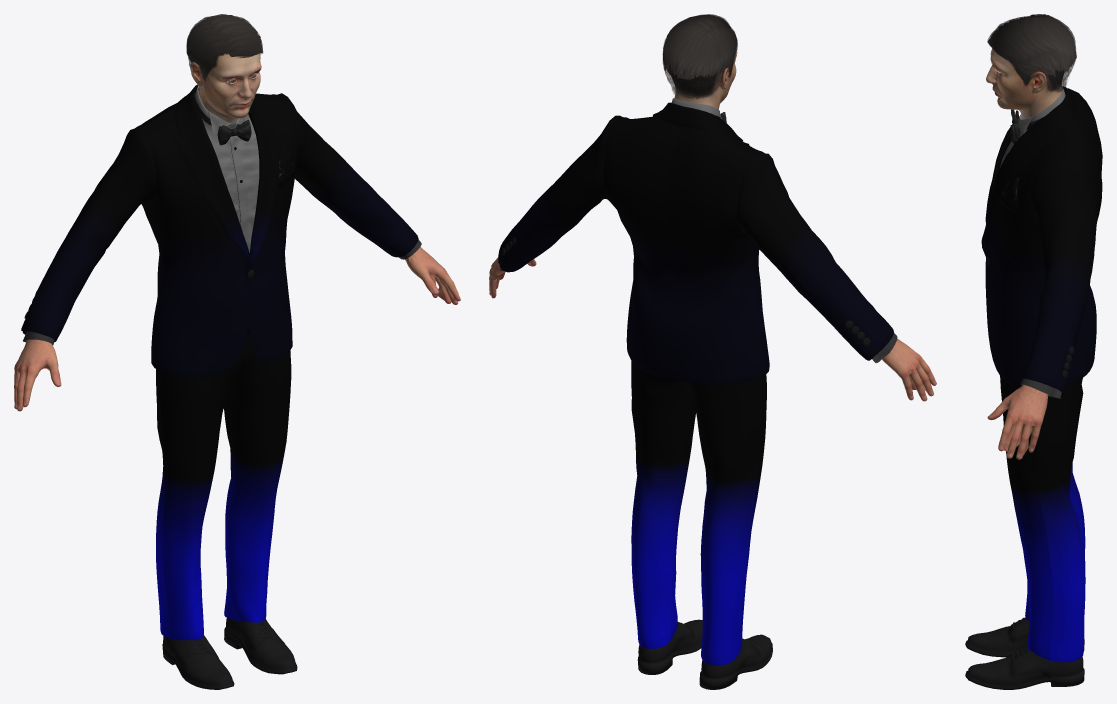
The picture shows the model from 3 angles, left to right: view 1: azimuth 30°, elevation 25°; view 2: azimuth 150°, elevation 25°; view 3: azimuth 270°, elevation 25°; orthographic projection.
Visible parts, largest first — view 1: 00490F2239BD7948.PRIM_2.002, 00B8E4568835DDC8.PRIM_1.001, 00E52DCF16AC6684.PRIM_0.001, 00A200636AC12708.PRIM_1.001, 0033E3B5B86F465F.PRIM_4, 003DBC04686CF0E1.PRIM_0, 0043C22BE7B03C15.PRIM_0, 00B40E9503CF9271.PRIM_0, 00B40E9503CF9271.PRIM_1, 00B40E9503CF9271.PRIM_2; view 2: 00490F2239BD7948.PRIM_2.002, 00B8E4568835DDC8.PRIM_1.001, 003DBC04686CF0E1.PRIM_0, 00E52DCF16AC6684.PRIM_0.001, 0043C22BE7B03C15.PRIM_0, 00C3967E7A4A29BF.PRIM_1, 0033E3B5B86F465F.PRIM_4, 00B40E9503CF9271.PRIM_0, 00B40E9503CF9271.PRIM_1; view 3: 00490F2239BD7948.PRIM_2.002, 00B8E4568835DDC8.PRIM_1.001, 00E52DCF16AC6684.PRIM_0.001, 003DBC04686CF0E1.PRIM_0, 0043C22BE7B03C15.PRIM_0, 0033E3B5B86F465F.PRIM_4, 00B40E9503CF9271.PRIM_0, 00B40E9503CF9271.PRIM_1, 00C3967E7A4A29BF.PRIM_1, 00A200636AC12708.PRIM_1.001, 00B40E9503CF9271.PRIM_2, 00B40E9503CF9271.PRIM_5 (+3 smaller).
Boxes of the visible parts, x1,y1,x2,y2 form: 00490F2239BD7948.PRIM_2.002: [21, 84, 418, 377]; 00B8E4568835DDC8.PRIM_1.001: [156, 333, 291, 640]; 00E52DCF16AC6684.PRIM_0.001: [162, 617, 297, 689]; 00A200636AC12708.PRIM_1.001: [195, 86, 259, 252]; 0033E3B5B86F465F.PRIM_4: [190, 53, 261, 123]; 003DBC04686CF0E1.PRIM_0: [186, 14, 263, 81]; 0043C22BE7B03C15.PRIM_0: [186, 14, 262, 79]; 00B40E9503CF9271.PRIM_0: [14, 247, 460, 411]; 00B40E9503CF9271.PRIM_1: [14, 249, 459, 411]; 00B40E9503CF9271.PRIM_2: [14, 249, 459, 408]; 00490F2239BD7948.PRIM_2.002: [498, 102, 893, 385]; 00B8E4568835DDC8.PRIM_1.001: [631, 361, 766, 665]; 003DBC04686CF0E1.PRIM_0: [662, 14, 737, 98]; 00E52DCF16AC6684.PRIM_0.001: [637, 619, 772, 689]; 0043C22BE7B03C15.PRIM_0: [663, 15, 736, 79]; 00C3967E7A4A29BF.PRIM_1: [668, 19, 733, 98]; 0033E3B5B86F465F.PRIM_4: [666, 50, 737, 109]; 00B40E9503CF9271.PRIM_0: [489, 257, 936, 401]; 00B40E9503CF9271.PRIM_1: [489, 259, 935, 400]; 00490F2239BD7948.PRIM_2.002: [981, 86, 1102, 395]; 00B8E4568835DDC8.PRIM_1.001: [1000, 376, 1085, 662]; 00E52DCF16AC6684.PRIM_0.001: [965, 617, 1084, 689]; 003DBC04686CF0E1.PRIM_0: [987, 14, 1076, 91]; 0043C22BE7B03C15.PRIM_0: [988, 14, 1076, 83]; 0033E3B5B86F465F.PRIM_4: [986, 48, 1064, 118]; 00B40E9503CF9271.PRIM_0: [987, 387, 1047, 459]; 00B40E9503CF9271.PRIM_1: [987, 385, 1047, 459]; 00C3967E7A4A29BF.PRIM_1: [1015, 16, 1074, 91]; 00A200636AC12708.PRIM_1.001: [1000, 86, 1065, 167]; 00B40E9503CF9271.PRIM_2: [999, 385, 1046, 457]; 00B40E9503CF9271.PRIM_5: [990, 390, 1048, 454].
Size of the model in its own units: 1.31 by 1.82 by 0.3507.
